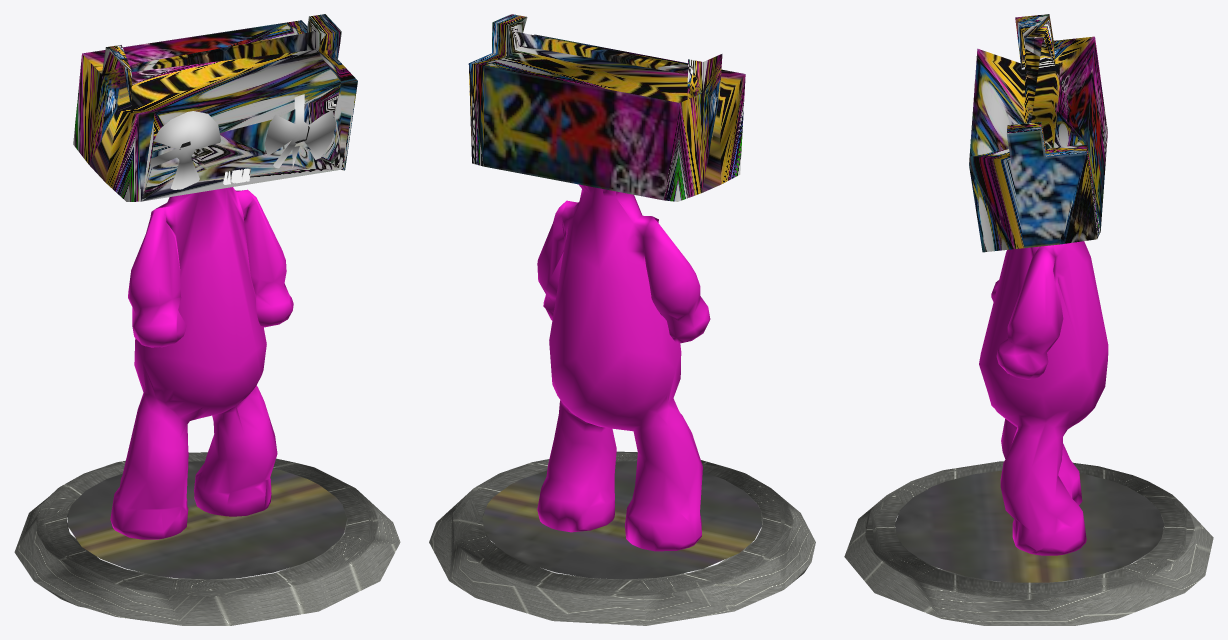
3 views of the same model, side by side, from view 1: azimuth 30°, elevation 25°; view 2: azimuth 150°, elevation 25°; view 3: azimuth 270°, elevation 25° (orthographic). The views are drawn at different scales.
Size of the model in its own units: 1.42 by 2.12 by 1.44.
Materials: 7 (3 with a texture image).
